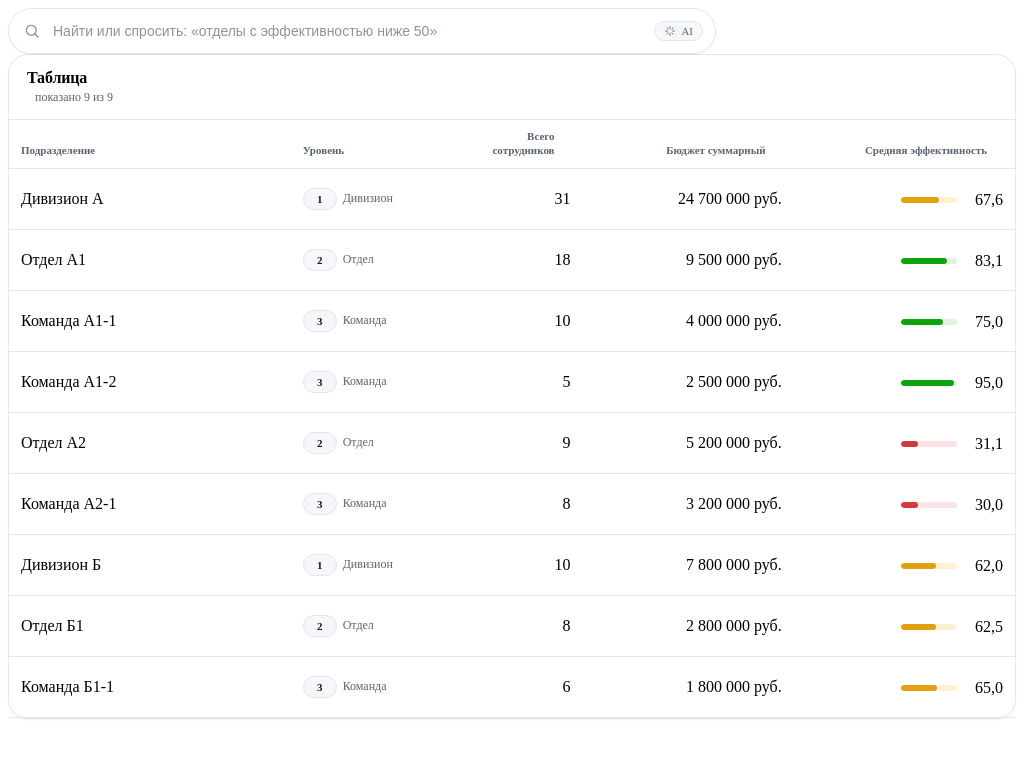
Test case: фильтр по названию › пустой результат показывает подсказку с запросом
Step 1. Type "xyz" into the search field → (348, 31), box top-left (51, 22), bottom-right (644, 40)
Wait 260 ms
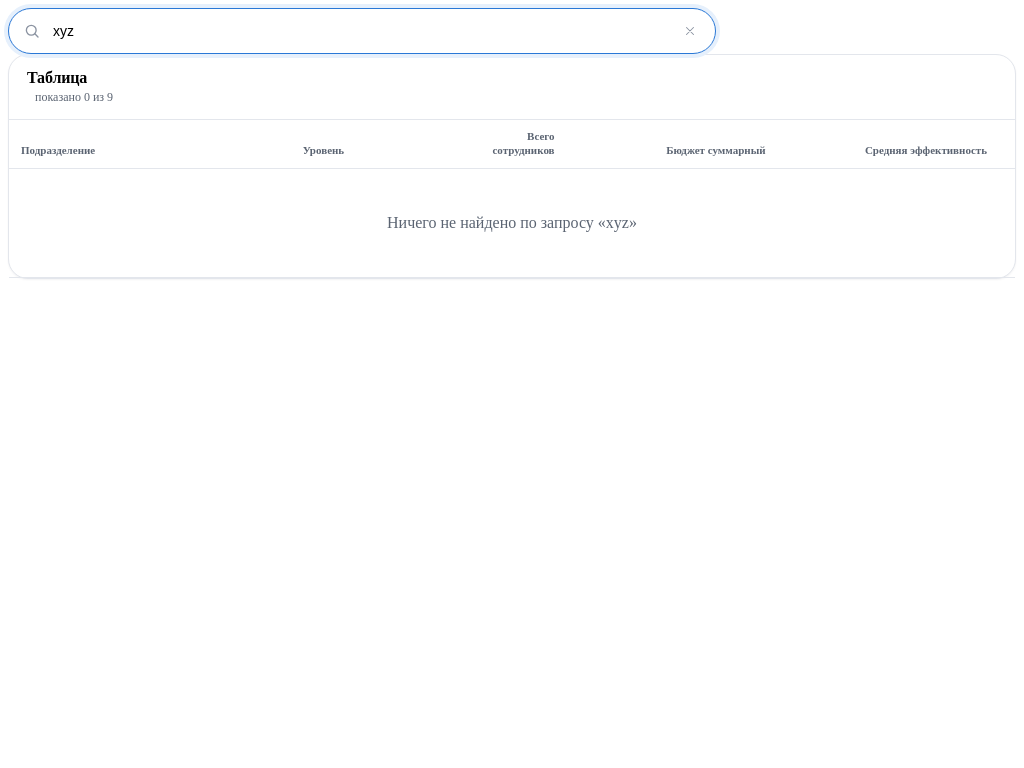
Now the text "Ничего не найдено по запросу «xyz»" is shown, box top-left (9, 168), bottom-right (1015, 278)
